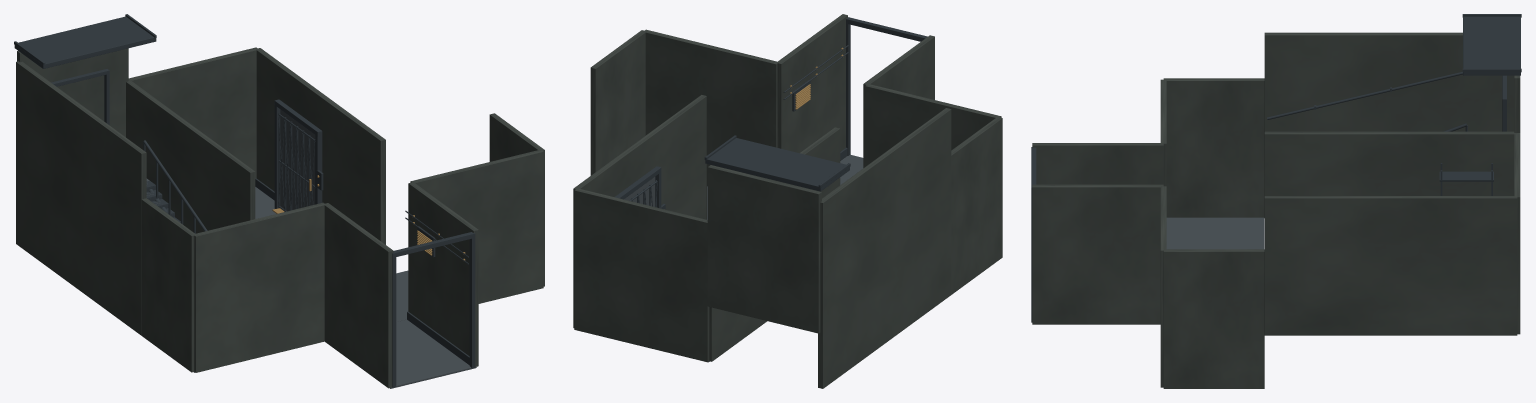
Rendered from rooftop-service.glb.
3 views of the same model, side by side, from view 1: azimuth 30°, elevation 25°; view 2: azimuth 150°, elevation 25°; view 3: azimuth 270°, elevation 25° (orthographic). The views are drawn at different scales.
Parts seen in each view (by area): view 1: Service_plaster, Service_steel, Service_stone; view 2: Service_plaster, Service_steel, Service_stone; view 3: Service_plaster, Service_steel, Service_stone.
Boxes of the visible parts, box(x1,y1,x2,y2) form: Service_plaster: box(16, 47, 544, 388); Service_steel: box(14, 14, 475, 387); Service_stone: box(146, 109, 476, 388); Service_plaster: box(573, 14, 1002, 388); Service_steel: box(614, 17, 927, 209); Service_stone: box(624, 154, 863, 362); Service_plaster: box(1032, 32, 1520, 388); Service_steel: box(1031, 14, 1521, 322); Service_stone: box(1166, 217, 1264, 249).
Bounding box in the file's own units: 8.12 × 4.44 × 9.7.
Materials: 5 (2 with a texture image).
